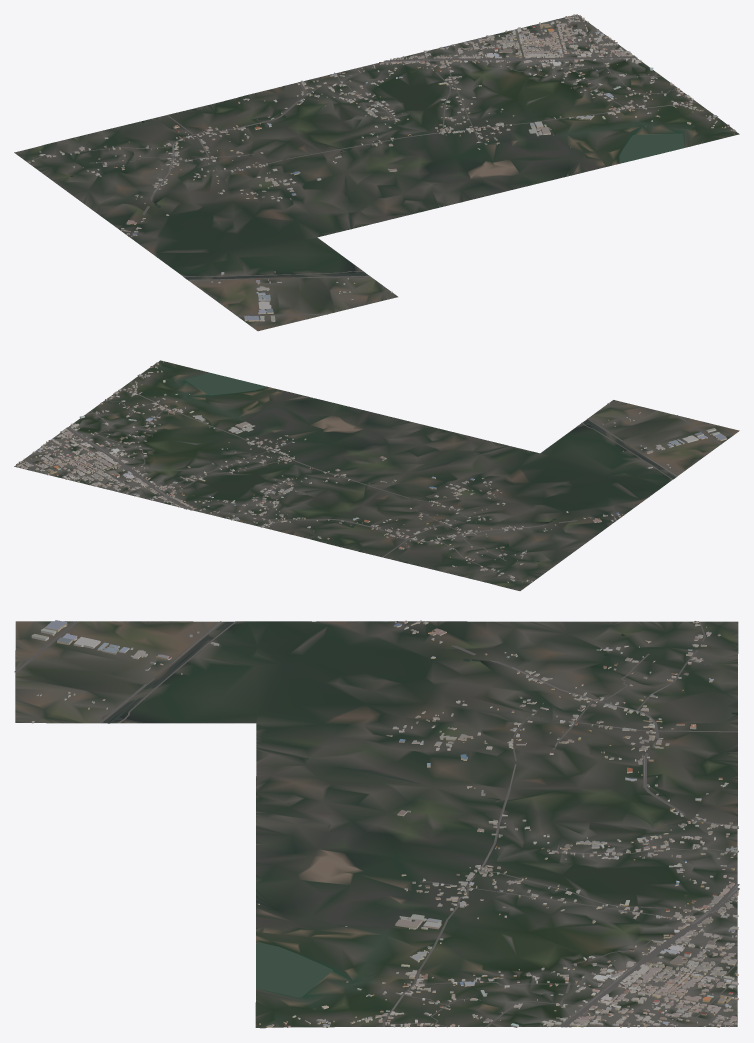
The picture shows the model from 3 angles, top to bottom: view 1: azimuth 30°, elevation 25°; view 2: azimuth 150°, elevation 25°; view 3: azimuth 270°, elevation 25°; orthographic projection. The views are drawn at different scales.
Visible parts, largest first — view 1: ground, buildings, roads, water; view 2: ground, buildings, roads, water; view 3: ground, buildings, roads, water.
Boxes of the visible parts, left/top/right/bottom form: ground: left=14, top=14, right=739, bottom=331; buildings: left=27, top=14, right=735, bottom=321; roads: left=27, top=14, right=696, bottom=316; water: left=70, top=108, right=694, bottom=279; ground: left=14, top=360, right=739, bottom=590; buildings: left=16, top=361, right=726, bottom=582; roads: left=15, top=388, right=721, bottom=582; water: left=164, top=373, right=675, bottom=562; ground: left=15, top=621, right=738, bottom=1028; buildings: left=31, top=620, right=738, bottom=1027; roads: left=14, top=621, right=739, bottom=1027; water: left=103, top=621, right=737, bottom=1009.
Bounding box in the file's own units: 5620 × 32.93 × 4221.
